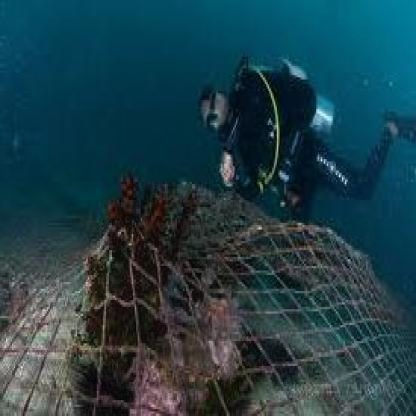net: (13, 209, 416, 416)
